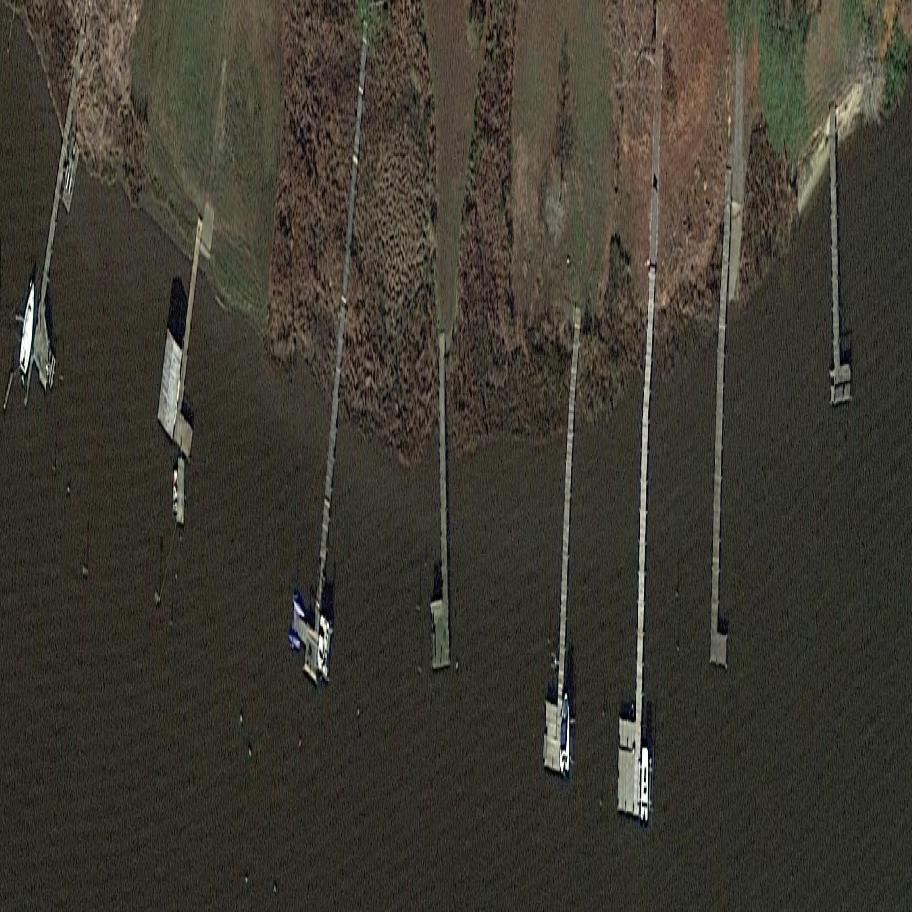ship: (17, 272, 39, 384), (639, 744, 650, 825), (560, 693, 570, 779), (172, 468, 178, 517)
